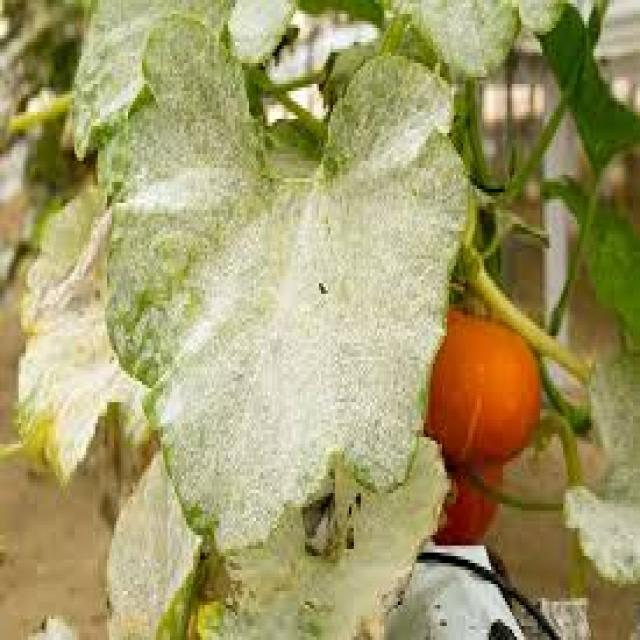powdery-mildew: (148, 17, 445, 516)
